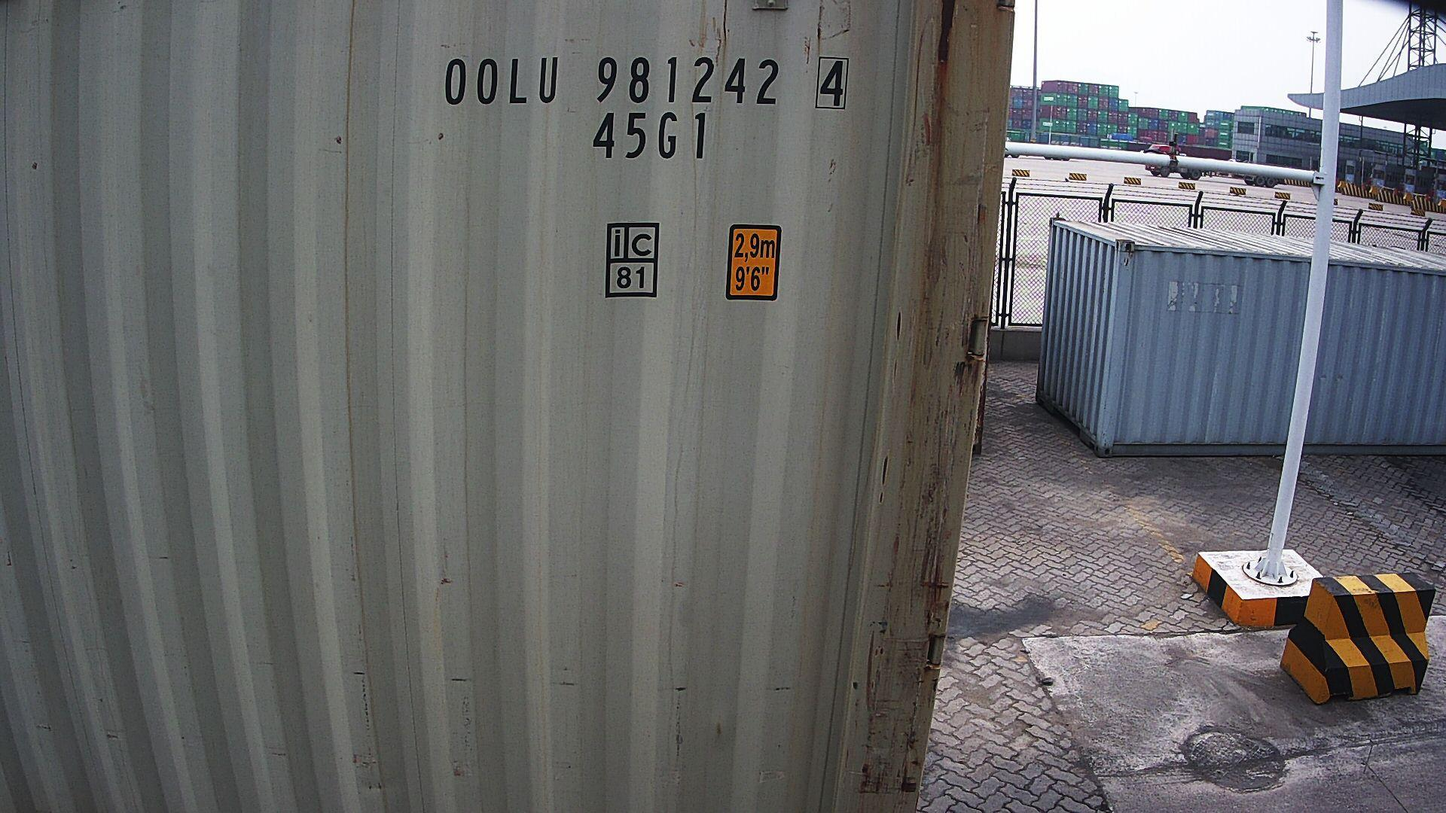container-numbers: (435, 52, 857, 113), (590, 111, 715, 167)
